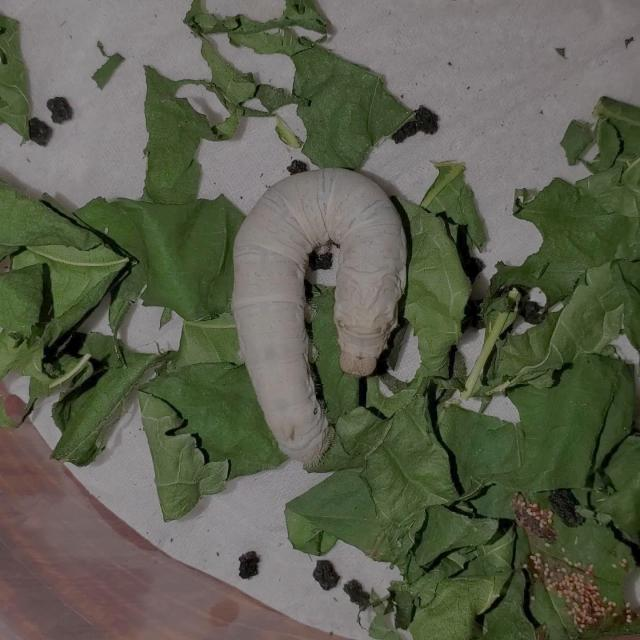Healthy: (218, 158, 416, 471)
